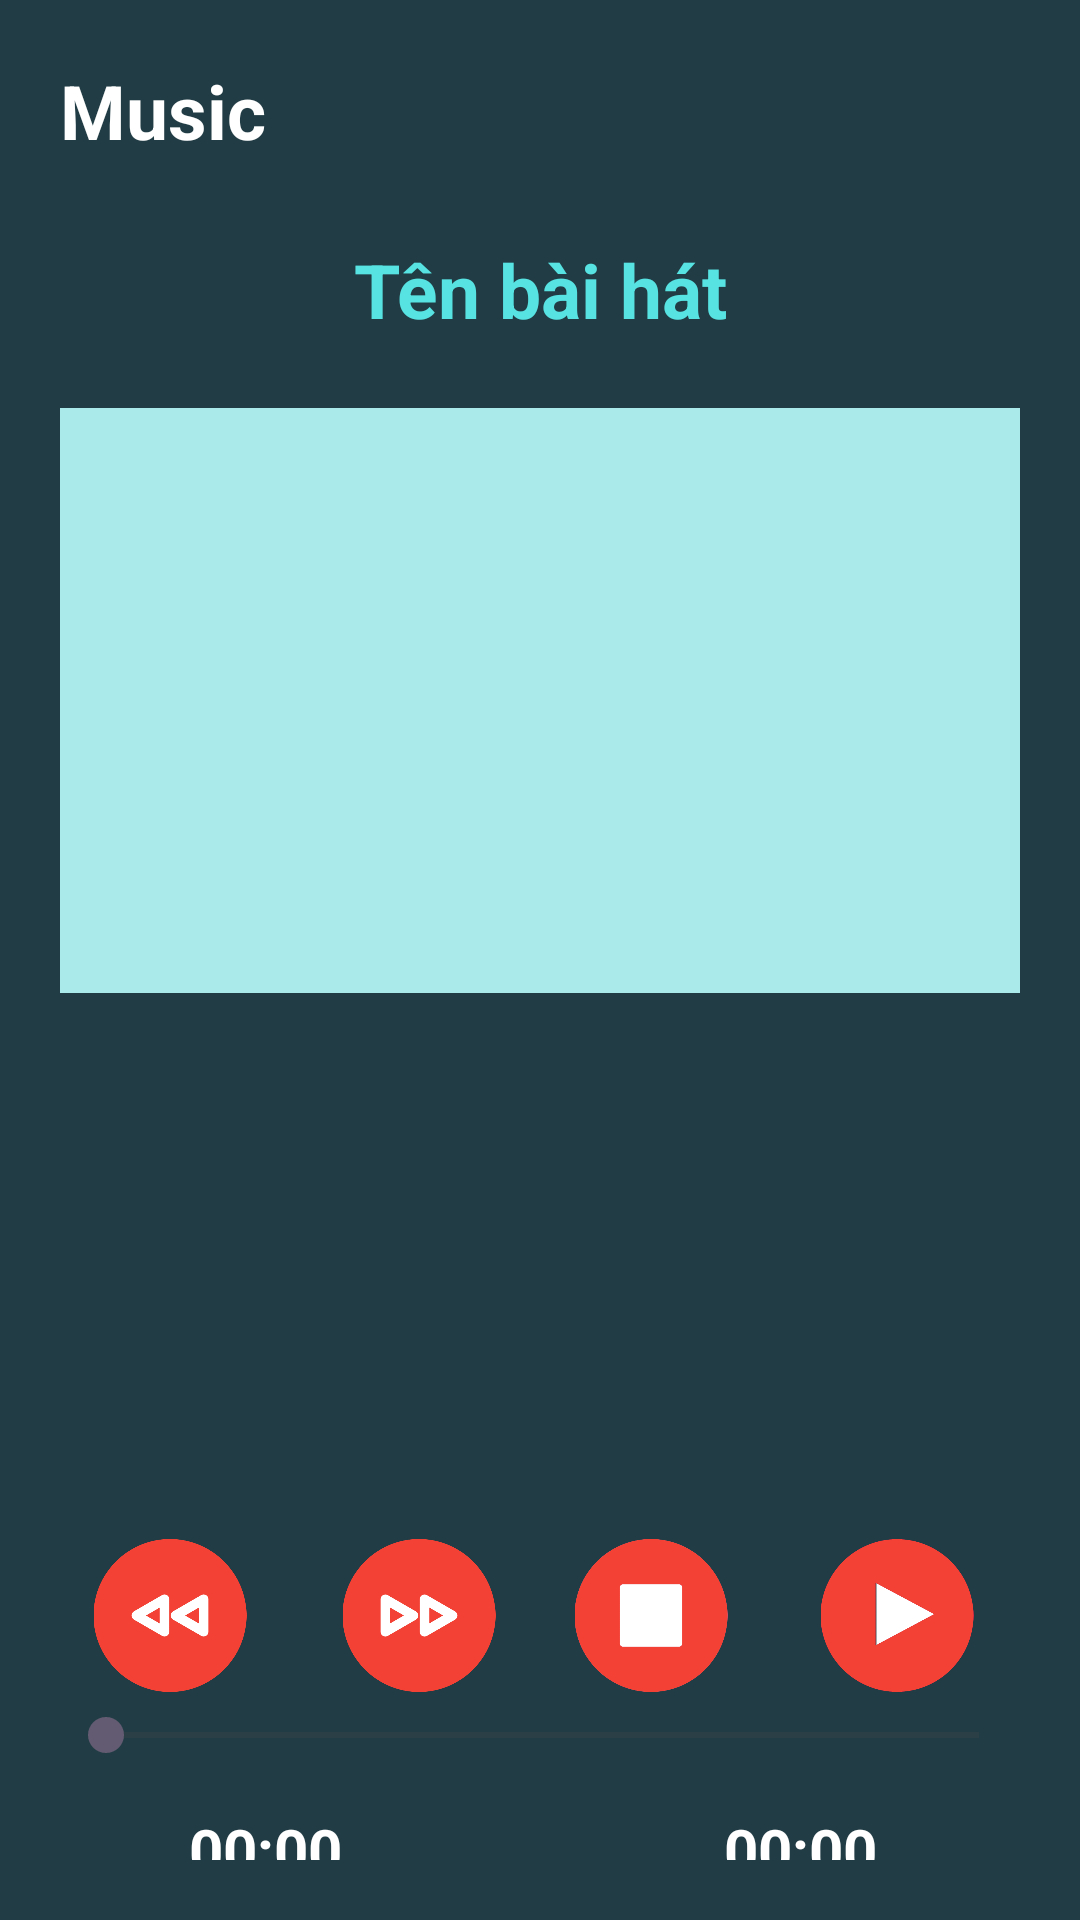

Named icons in this screenshot (1080 x 1920) and their bounding boxes, (x1, y1, x2, y2):
play: (821, 1539, 974, 1692)
stopp: (575, 1539, 728, 1692)
